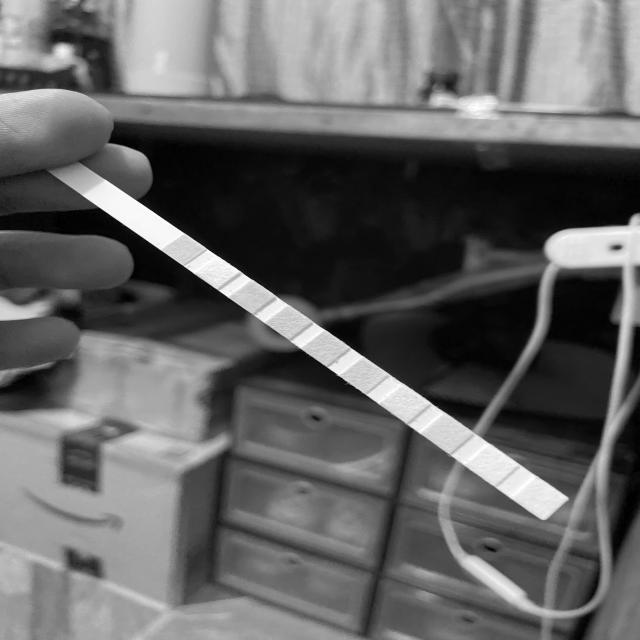Bilirubin: (207, 265, 230, 281)
Blood: (312, 340, 338, 357)
Glucose: (173, 242, 194, 257)
Ketone: (240, 290, 266, 304)
Leukocytes: (524, 487, 552, 506)
Nitrite: (476, 455, 506, 473)
Protein: (390, 394, 420, 412)
SpGravity: (277, 314, 301, 331)
Urobilinogen: (433, 423, 460, 442)
background: (0, 0, 640, 640)
pH: (351, 366, 378, 383)
strip: (48, 162, 568, 520)
